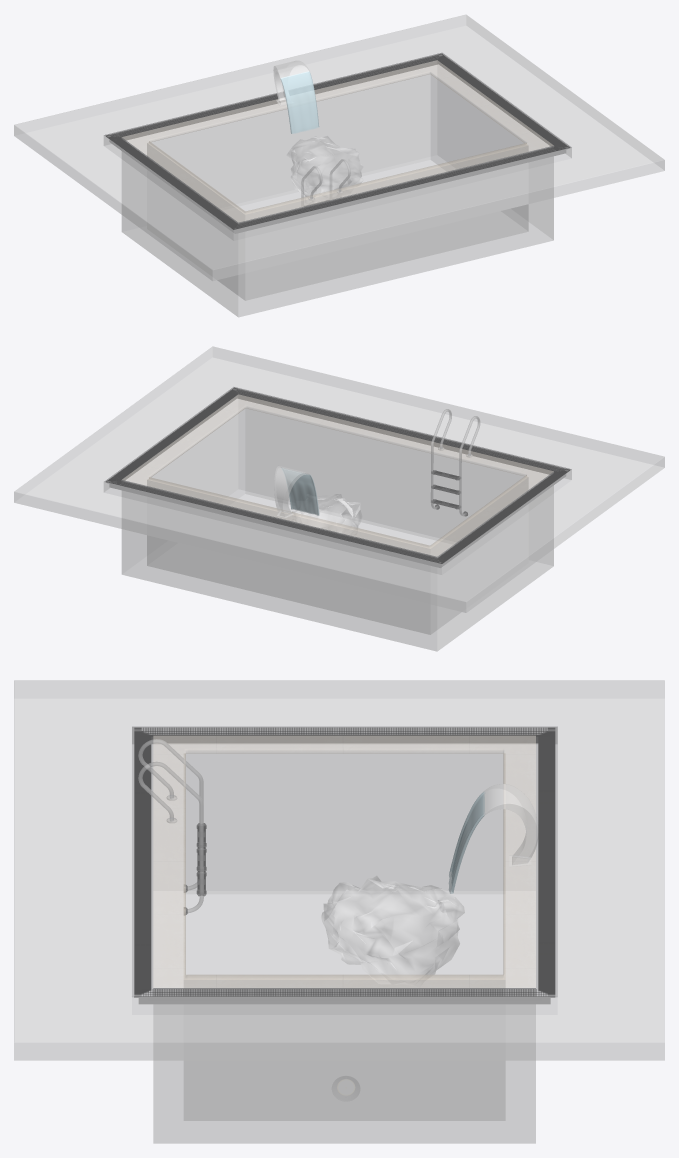
Rendered from pool.gltf.
3 views of the same model, one above another, from view 1: azimuth 30°, elevation 25°; view 2: azimuth 150°, elevation 25°; view 3: azimuth 270°, elevation 25° (orthographic). The views are drawn at different scales.
Visible parts, largest first — view 1: WaterfallCobra_PoolLadder_V2; view 2: WaterfallCobra_PoolLadder_V2; view 3: WaterfallCobra_PoolLadder_V2.
Part boxes in pixels (x1,y1,x2,y2): WaterfallCobra_PoolLadder_V2: [14, 15, 664, 317]; WaterfallCobra_PoolLadder_V2: [14, 346, 664, 651]; WaterfallCobra_PoolLadder_V2: [14, 680, 664, 1143].
Size of the model in its own units: 10.62 by 3.05 by 8.08.
